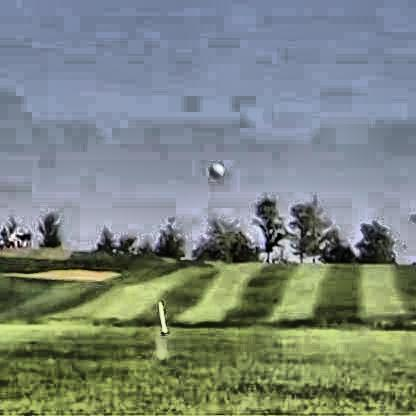golfball: (206, 159, 221, 177)
